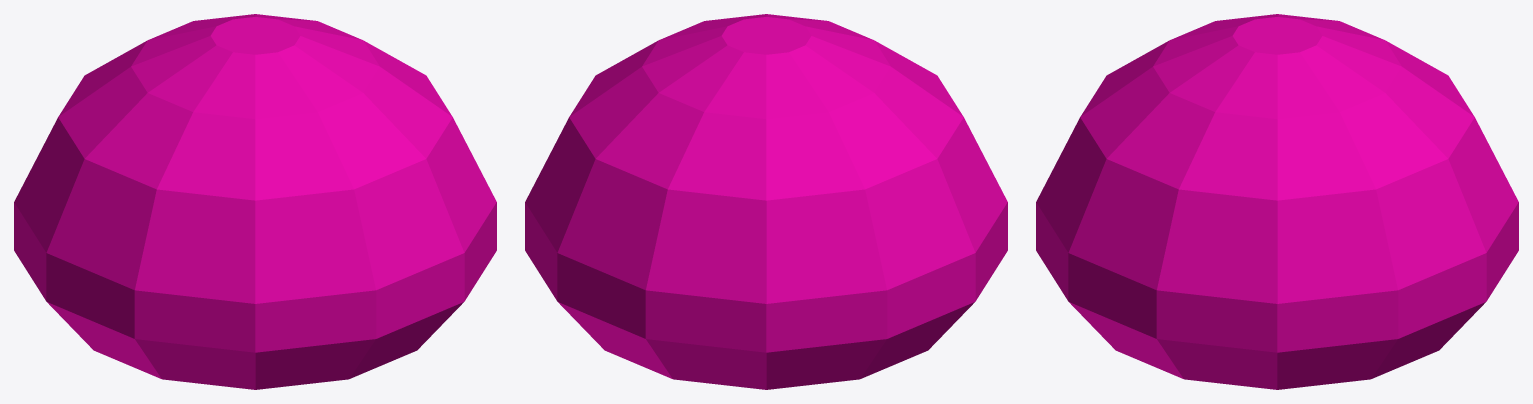
Rendered from slime3.fbx.
3 views of the same model, side by side, from view 1: azimuth 30°, elevation 25°; view 2: azimuth 150°, elevation 25°; view 3: azimuth 270°, elevation 25° (orthographic).
Visible parts, largest first — view 1: Cylinder; view 2: Cylinder; view 3: Cylinder.
Part boxes in pixels (x1,y1,x2,y2): Cylinder: (14,14,496,389); Cylinder: (525,14,1007,389); Cylinder: (1036,14,1518,389).
Size of the model in its own units: 647 by 407 by 647.
